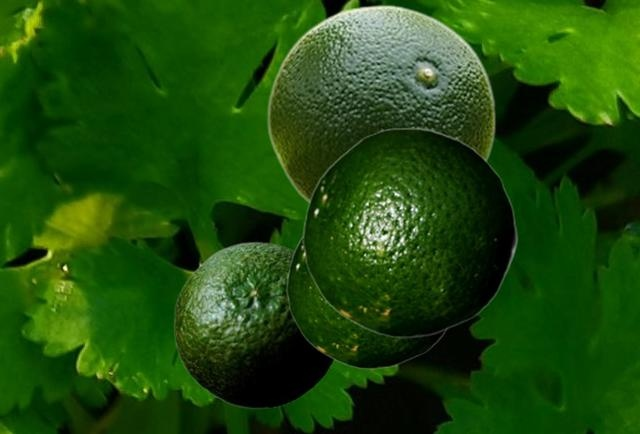calamansi: (266, 4, 496, 203), (302, 127, 517, 337), (173, 241, 334, 408), (286, 236, 449, 368)
